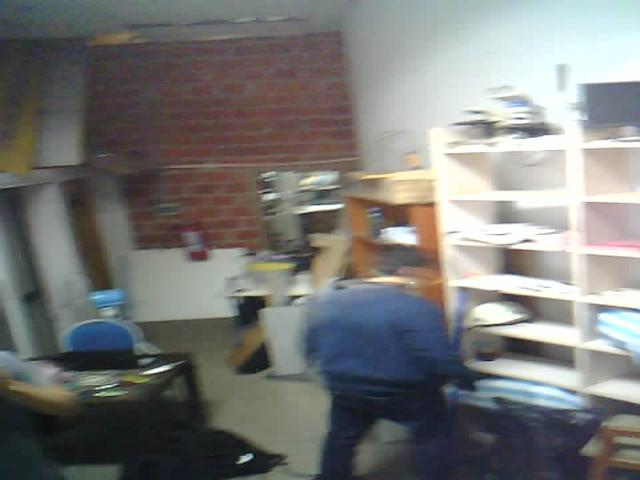person: (302, 214, 489, 480)
